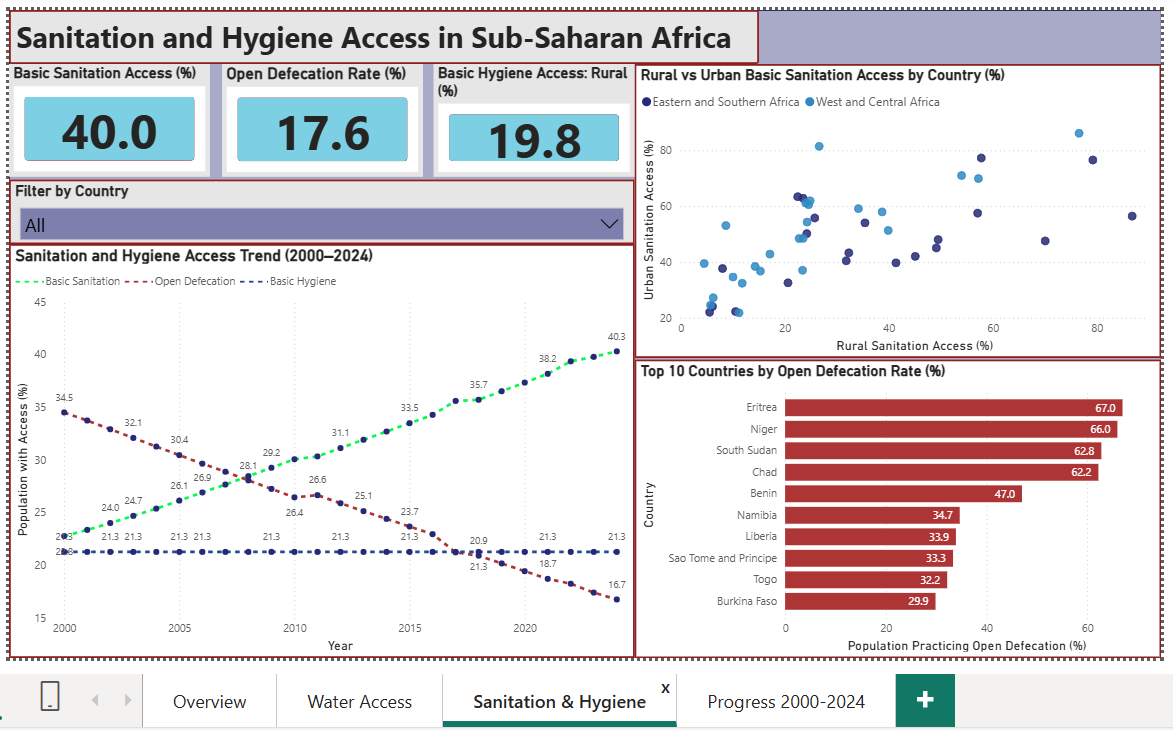

This screenshot's page, from the dashboard's own definition file:
{"tool":"powerbi","page":{"name":"Sanitation & Hygiene","canvas":[1280,720],"ordinal":2},"visuals":[{"type":"shape","box":[0,0,1280.8,720.6],"z":0},{"type":"textbox","box":[0,0,833.3,60],"z":1000},{"type":"slicer","title":"Filter by Country","fields":{"Values":["water_timeseries.Country"]},"box":[0,188.3,695,71.7],"z":2000},{"type":"cardVisual","title":"Basic Sanitation Access (%)","fields":{"Data":["Avg(sanitation_latest.San_Basic_Total)"]},"box":[0,60,223.3,125],"z":3000},{"type":"scatterChart","title":"Rural vs Urban Basic Sanitation Access by Country (%)","fields":{"X":["Avg(sanitation_latest.San_Basic_Rural)"],"Y":["Avg(sanitation_latest.San_Basic_Urban)"],"Category":["sanitation_latest.Country"],"Series":["sanitation_latest.UNICEF_Region"]},"box":[695,60,585,326.7],"z":4000},{"type":"clusteredBarChart","title":"Top 10 Countries by Open Defecation Rate (%)","fields":{"Category":["sanitation_latest.Country"],"Y":["Avg(sanitation_latest.San_OpenDefecation_Total)"]},"box":[695,388.3,585,331.7],"z":5000},{"type":"lineChart","title":"Sanitation and Hygiene Access Trend (2000–2024)","fields":{"Category":["sanitation_timeseries.Year"],"Y":["Avg(sanitation_timeseries.San_Basic_Total)","Avg(sanitation_timeseries.San_OpenDefecation_Total)","Avg(hygiene_timeseries.Hyg_Basic_Total)"]},"box":[0,260,695,460],"z":6000},{"type":"cardVisual","title":"Open Defecation Rate (%)","fields":{"Data":["Avg(sanitation_latest.San_OpenDefecation_Total)"]},"box":[236.7,60,223.3,125],"z":7000},{"type":"cardVisual","title":"Basic Hygiene Access: Rural (%) ","fields":{"Data":["Avg(hygiene_latest.Hyg_Basic_Rural)"]},"box":[471.7,60,223.3,125],"z":7001}]}

Visuals, with their boxes on the page's 1280x720 design canvas (x1, y1, x2, y2). These are canvas units, not pixel positions in the 1173x730 screenshot, which may show the page scaled, cropped or inside an application window:
shape: region(0, 0, 1281, 721)
textbox: region(0, 0, 833, 60)
"Filter by Country" slicer: region(0, 188, 695, 260)
"Basic Sanitation Access (%)" cardVisual: region(0, 60, 223, 185)
"Rural vs Urban Basic Sanitation Access by Country (%)" scatterChart: region(695, 60, 1280, 387)
"Top 10 Countries by Open Defecation Rate (%)" clusteredBarChart: region(695, 388, 1280, 720)
"Sanitation and Hygiene Access Trend (2000–2024)" lineChart: region(0, 260, 695, 720)
"Open Defecation Rate (%)" cardVisual: region(237, 60, 460, 185)
"Basic Hygiene Access: Rural (%) " cardVisual: region(472, 60, 695, 185)
